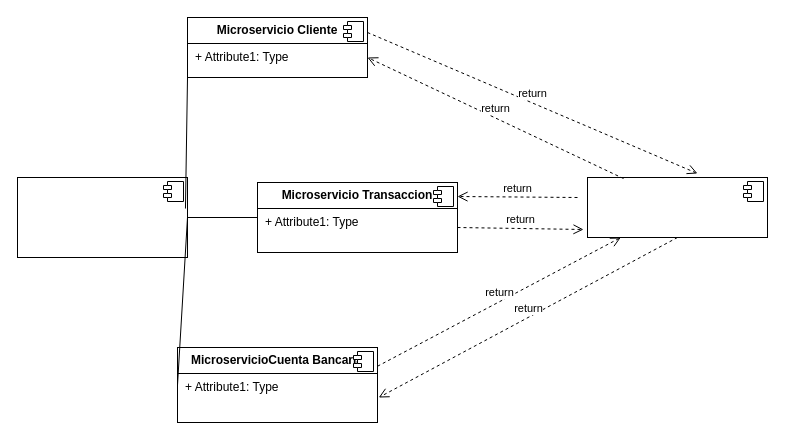
This 785x440 diagram has some shape labels left out. The centre of each missing label's shape, as x and y in pixels:
Api + Attribute1: Type: [102,217]
BdBanco + Attribute1: Type: [677,207]
